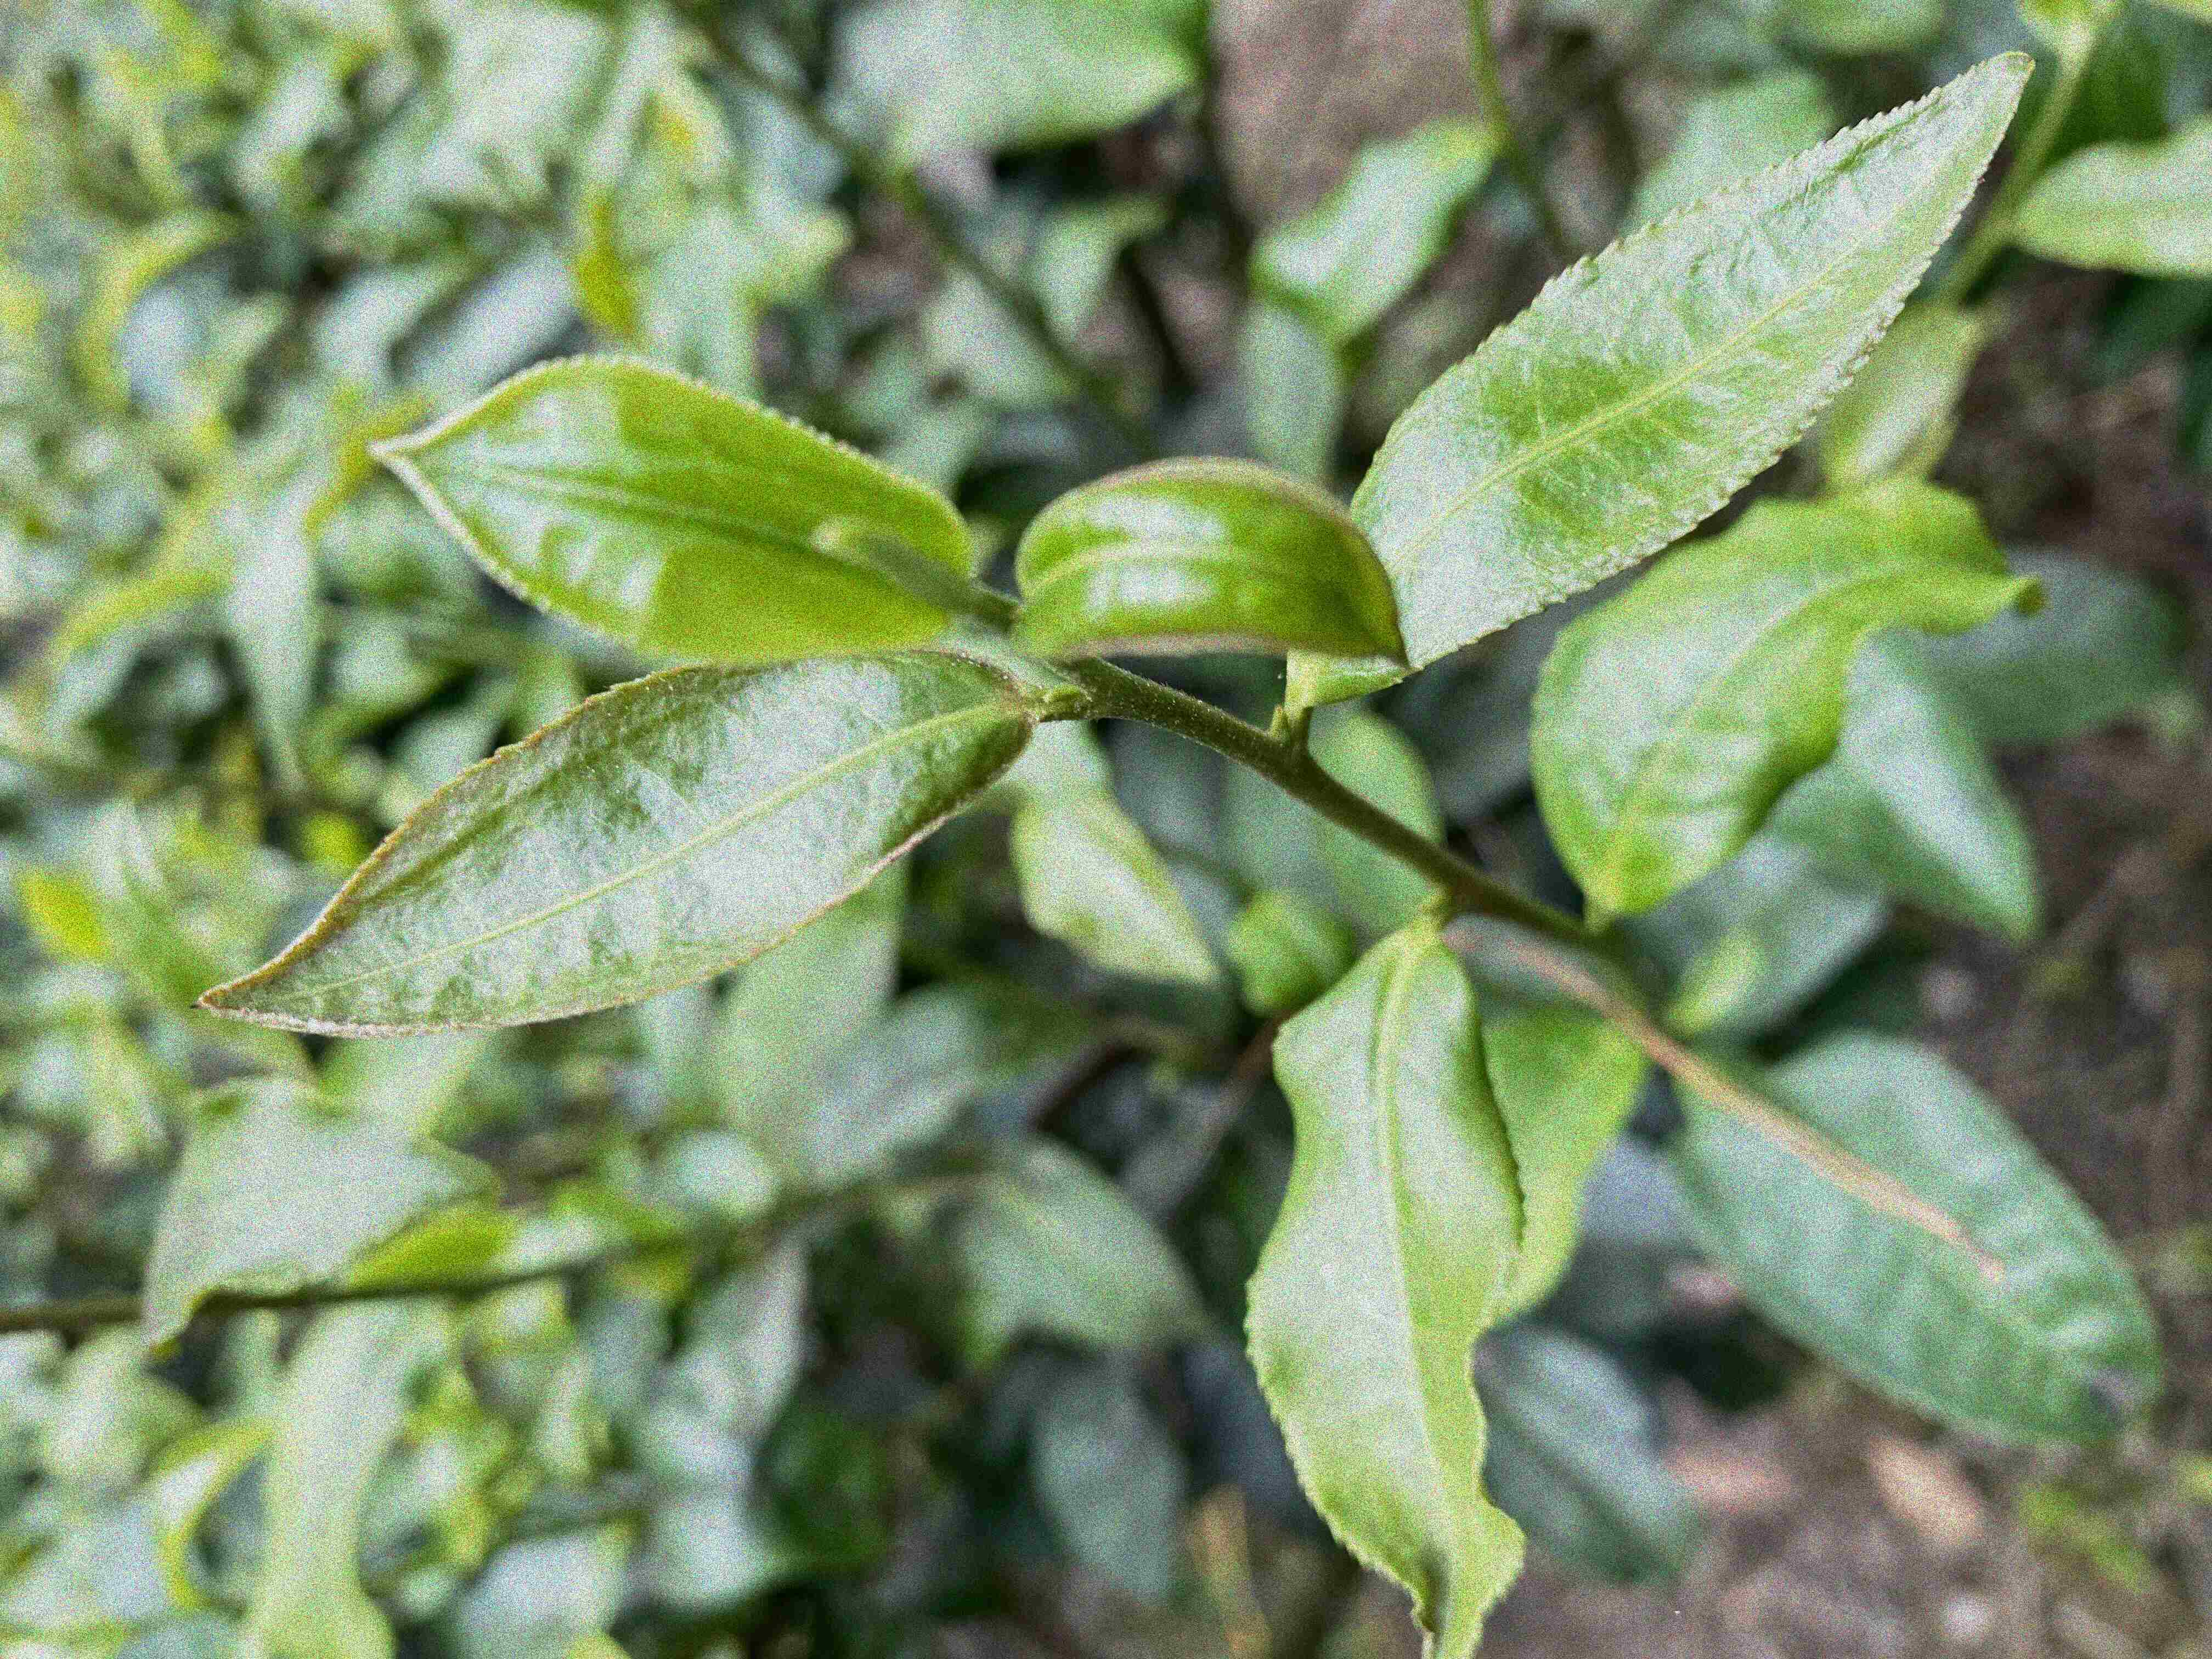healthy: (1284, 52, 2036, 709), (1526, 474, 2045, 911), (1238, 925, 1531, 1657), (366, 350, 972, 660)
tanju_low: (197, 653, 1038, 1040), (1007, 453, 1411, 673)
